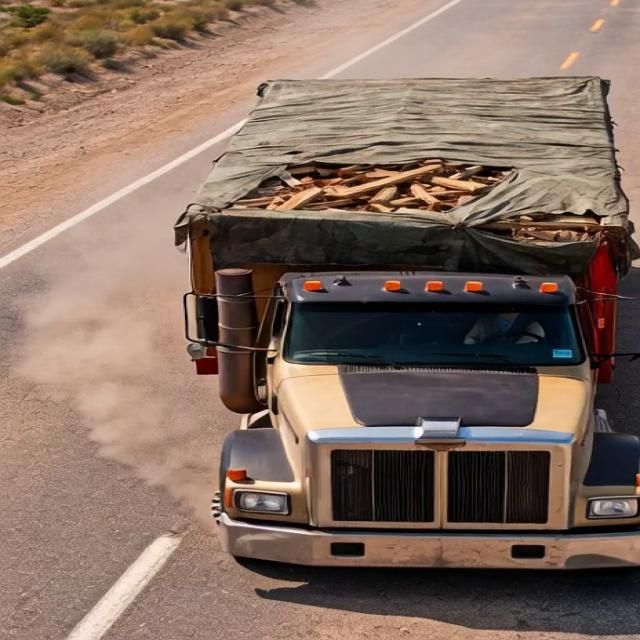Box: (176, 73, 638, 238)
Truck: (158, 66, 640, 578)
